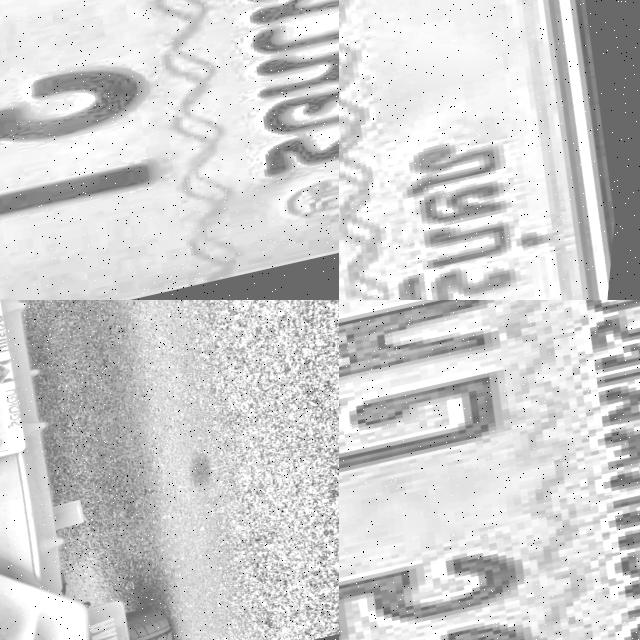license-plate: (339, 300, 640, 640), (0, 0, 339, 300), (339, 0, 640, 300), (0, 300, 51, 484)
